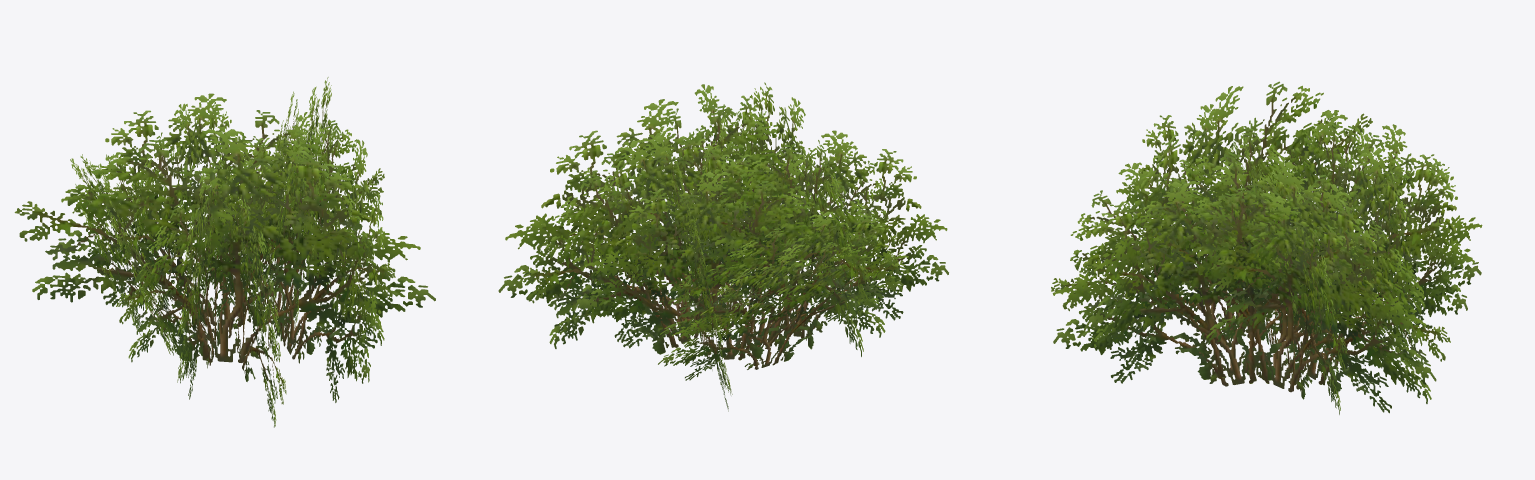
The model's file is far.glb.
3 views of the same model, side by side, from view 1: azimuth 30°, elevation 25°; view 2: azimuth 150°, elevation 25°; view 3: azimuth 270°, elevation 25° (orthographic). The views are drawn at different scales.
Visible parts, largest first — view 1: lod2, lod1; view 2: lod1, lod2; view 3: lod2, lod1.
Boxes of the visible parts, x1,y1,x2,y2 form: lod2: (14, 77, 435, 402); lod1: (70, 91, 395, 427); lod1: (519, 111, 948, 380); lod2: (498, 82, 870, 411); lod2: (1052, 81, 1482, 413); lod1: (1051, 104, 1474, 414).
Bounding box in the file's own units: 2.43 × 1.85 × 2.73.
Materials: 1 (1 with a texture image).
